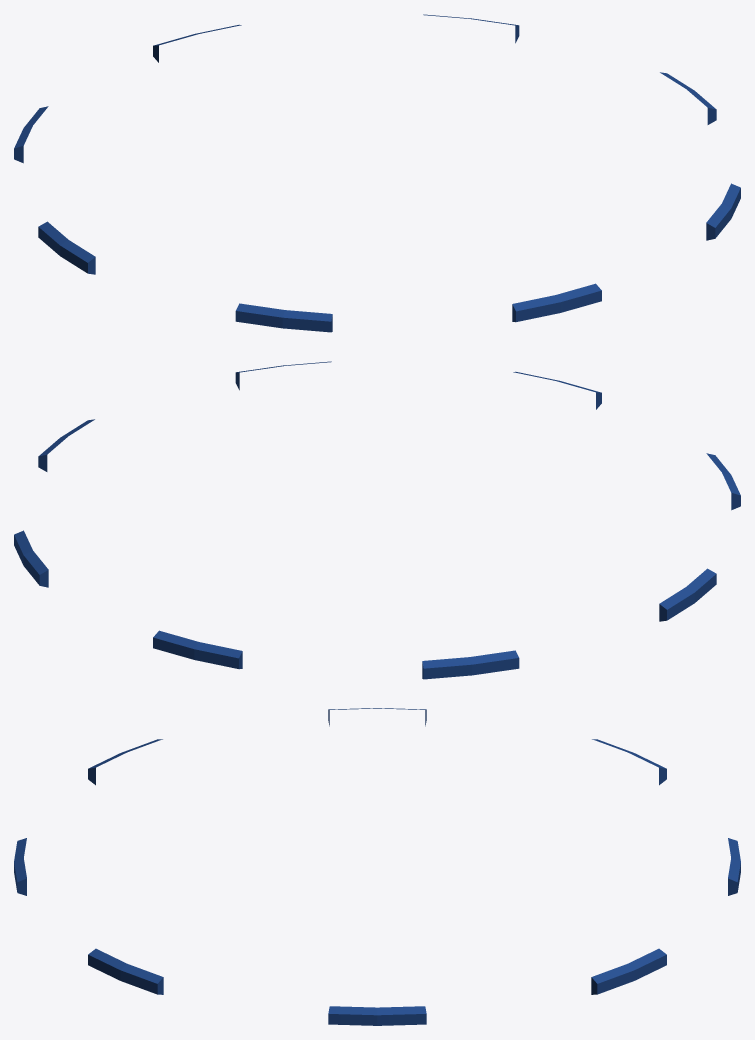
The model's file is dome.trim_middle.blue.glb.
3 renders of one model, top to bottom at view 1: azimuth 30°, elevation 25°; view 2: azimuth 150°, elevation 25°; view 3: azimuth 270°, elevation 25°, orthographic.
Parts seen in each view (by area): view 1: dome_trim_middle_blue; view 2: dome_trim_middle_blue; view 3: dome_trim_middle_blue.
Boxes of the visible parts, left/top/right/bottom form: dome_trim_middle_blue: left=14, top=14, right=740, bottom=332; dome_trim_middle_blue: left=14, top=361, right=740, bottom=679; dome_trim_middle_blue: left=14, top=708, right=740, bottom=1025.
Size of what is drawn, in the model's own units: 7.4 by 0.2 by 7.4.
